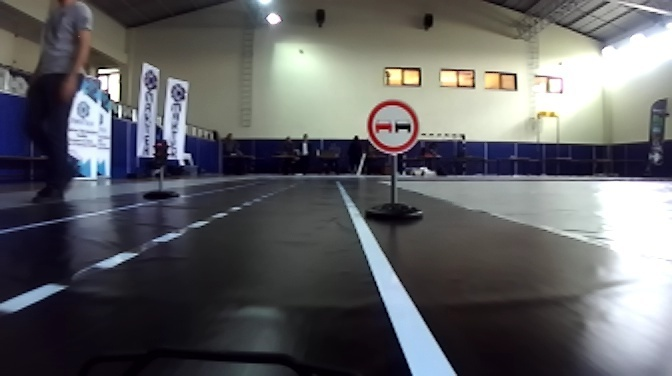sollama_yasak: (367, 99, 419, 154)
